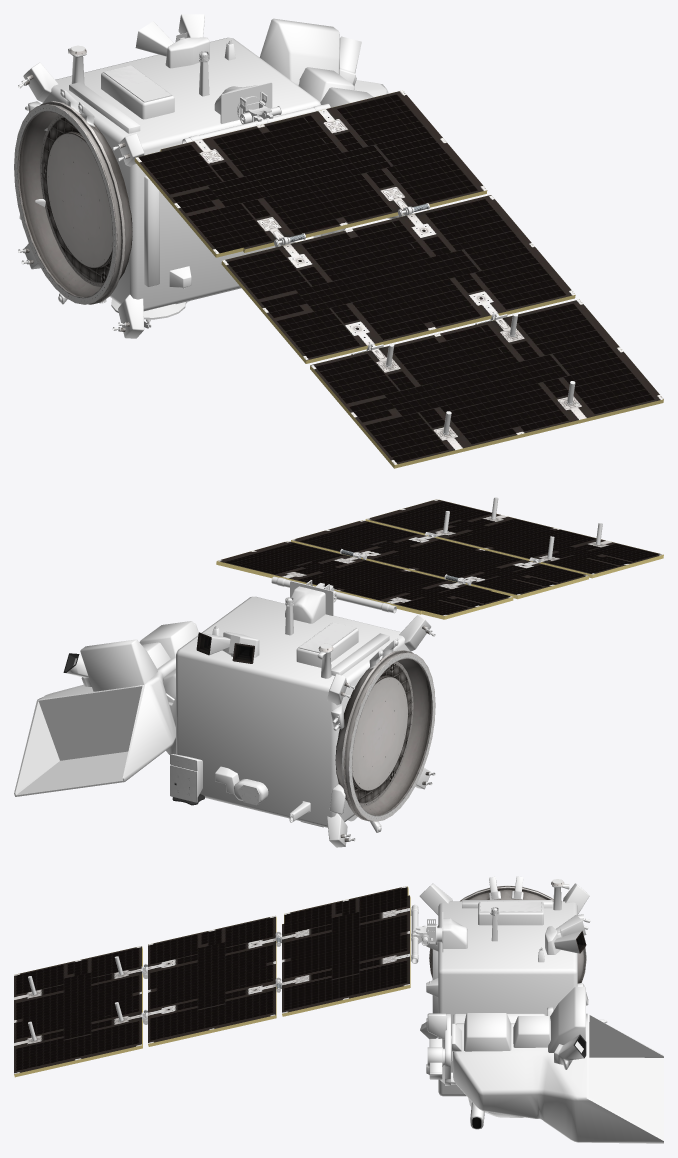
The model's file is pace.gltf.
3 views of the same model, one above another, from view 1: azimuth 30°, elevation 25°; view 2: azimuth 150°, elevation 25°; view 3: azimuth 270°, elevation 25° (orthographic). The views are drawn at different scales.
Visible parts, largest first — view 1: array, BUS, Cylinder.034, Cube.006; view 2: BUS, array, Cylinder.034, Cylinder.026; view 3: BUS, array, Cylinder.034.
Boxes of the visible parts, <box> form: array: <box>134,90,663,468</box>; BUS: <box>19,14,404,338</box>; Cylinder.034: <box>14,45,171,331</box>; Cube.006: <box>220,82,272,123</box>; BUS: <box>14,586,431,847</box>; array: <box>216,499,663,619</box>; Cylinder.034: <box>170,622,435,841</box>; Cylinder.026: <box>271,576,396,613</box>; BUS: <box>419,876,663,1143</box>; array: <box>14,886,410,1077</box>; Cylinder.034: <box>429,879,586,983</box>.
Bounding box in the file's own units: 3.48 × 2.25 × 7.01.
14 materials, 3 textured.
